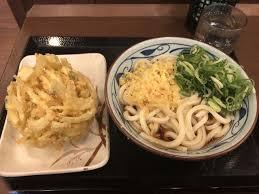bukkake: (108, 39, 257, 156)
kakiage: (7, 54, 96, 144)
